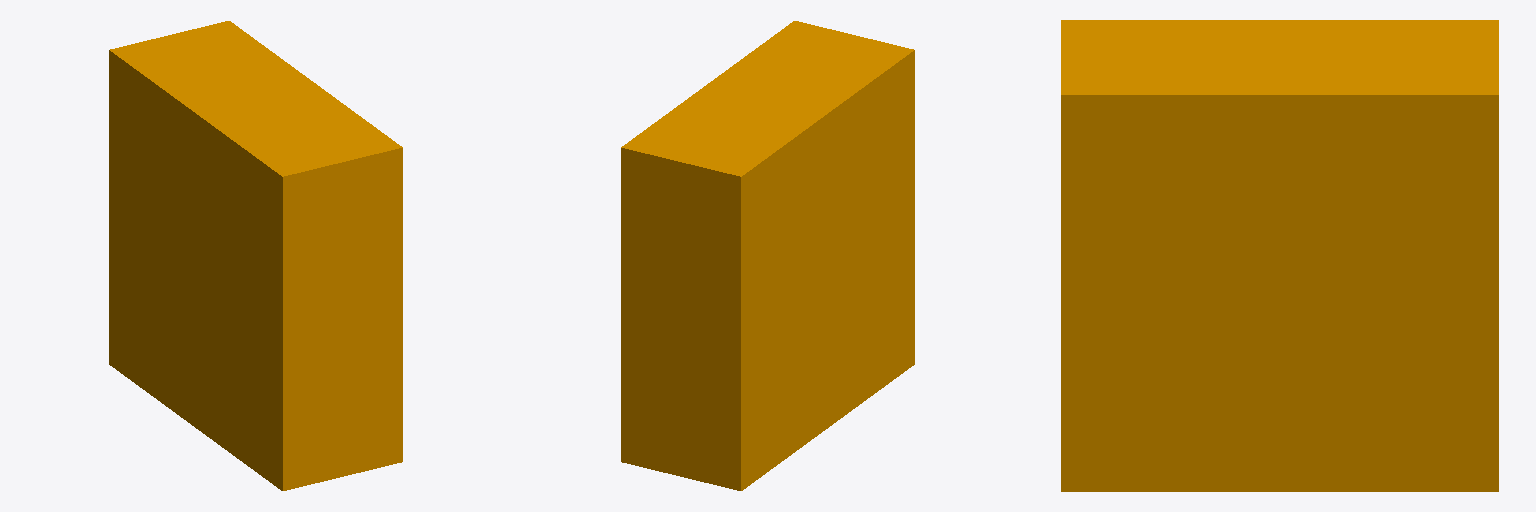
The robot description file, URDF, robot "tomato_seed":
<?xml version="1.0"?>
<robot name="tomato_seed">
  <link name="tomato_seed">
    <inertial>
        <origin rpy="0 0 0" xyz="0 0 0"/>
        <mass value="0.01"/>
        <inertia ixx="4.4e-5" ixy="0" ixz="0" iyy="0" iyz="0" izz="4.4e-5"/>
    </inertial>
    <visual>
      <geometry>
        <mesh filename="tomatoSeed.obj"/>
      </geometry>
    </visual>
    <collision>
      <geometry>
        <mesh filename="tomatoSeed.obj"/>
      </geometry>
      <surface>
           <bounce restitution_coefficient = "0.1"/>
      </surface>
    </collision>
  </link>
</robot>

--- Render facts (derived) ---
3 views of the same robot in one strip: view 1: azimuth 30°, elevation 25°; view 2: azimuth 150°, elevation 25°; view 3: azimuth 270°, elevation 25° (orthographic).
Robot: tomato_seed — 1 links, 0 joints (none); root link tomato_seed; default pose: every joint at zero.
Visible links, largest first — view 1: tomato_seed; view 2: tomato_seed; view 3: tomato_seed.
Link boxes in pixels (x1,y1,x2,y2): tomato_seed: (109,21,402,490); tomato_seed: (621,21,914,490); tomato_seed: (1061,20,1498,491).
Size in the robot's own frame: 0.0034 by 0.0086 by 0.0086 metres.
1 mesh visuals loaded from 1 distinct referenced files (1 OBJ).
